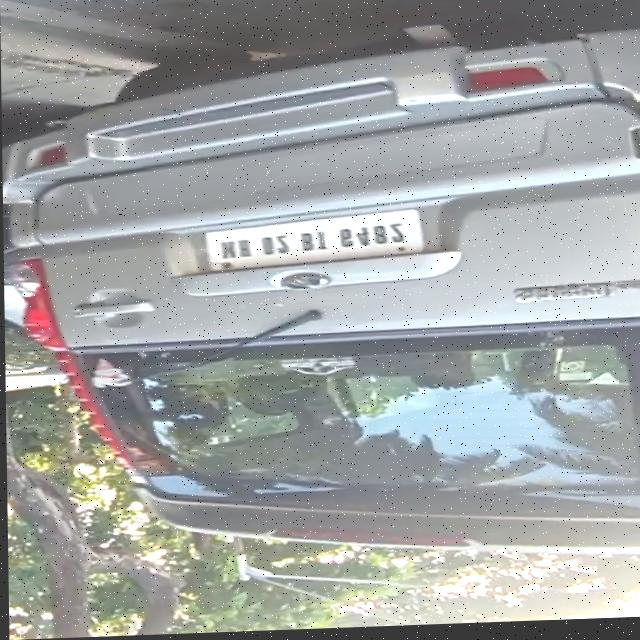plate: (200, 212, 424, 275)
